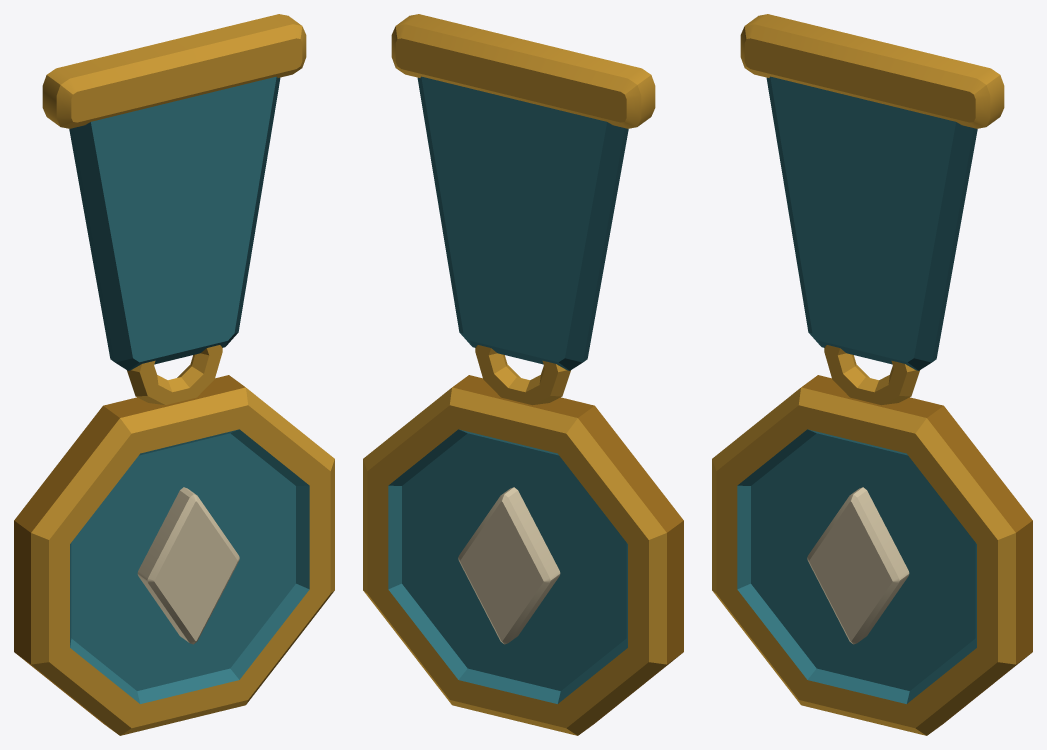
Rendered from Medal_22.glb.
The picture shows the model from 3 angles, left to right: view 1: azimuth 30°, elevation 25°; view 2: azimuth 150°, elevation 25°; view 3: azimuth 330°, elevation 25°; orthographic projection.
Visible parts, largest first — view 1: Medal_22; view 2: Medal_22; view 3: Medal_22.
Boxes of the visible parts, bbox=[...] form: Medal_22: bbox=[14, 14, 334, 735]; Medal_22: bbox=[363, 14, 683, 735]; Medal_22: bbox=[712, 14, 1032, 735].
Size of the model in its own units: 1.14 by 2.39 by 0.28.
